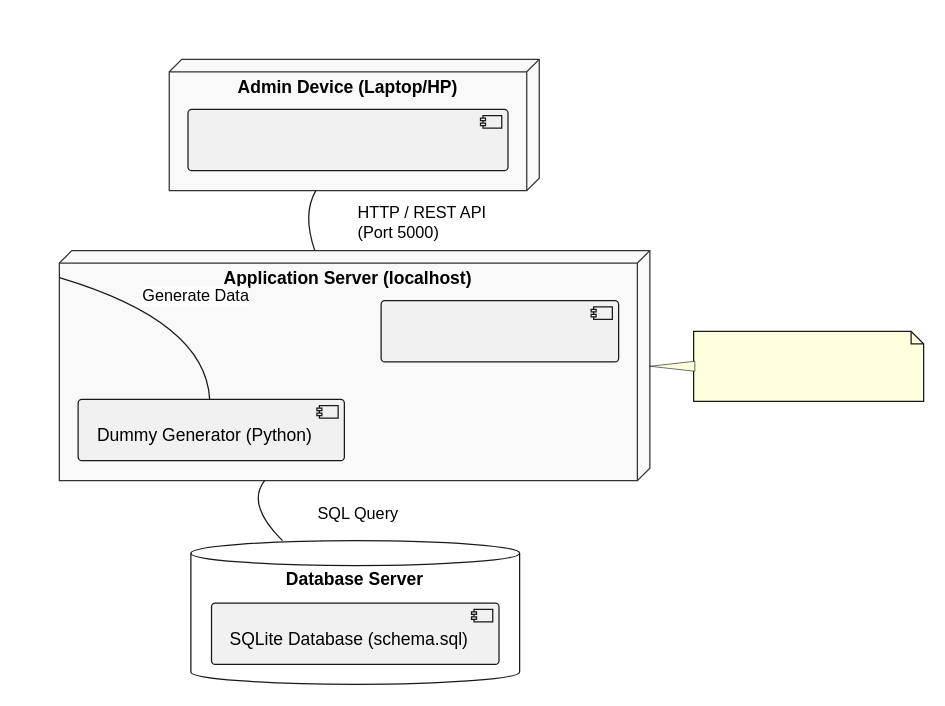
Some shapes in this 945 by 706 pixel diagram are drawn without their labels. The shapes that lost their labels are listed below. From the top down, each one's box as (x1, y1, x2, y2) in pixels, then its label:
(187, 108, 508, 171): Browser (Chrome/Edge/Firefox)
(380, 299, 619, 362): Flask Backend (app.py)
(692, 330, 924, 401): Server lokal menjalankan logika sistem dan simulasi data sensor.
